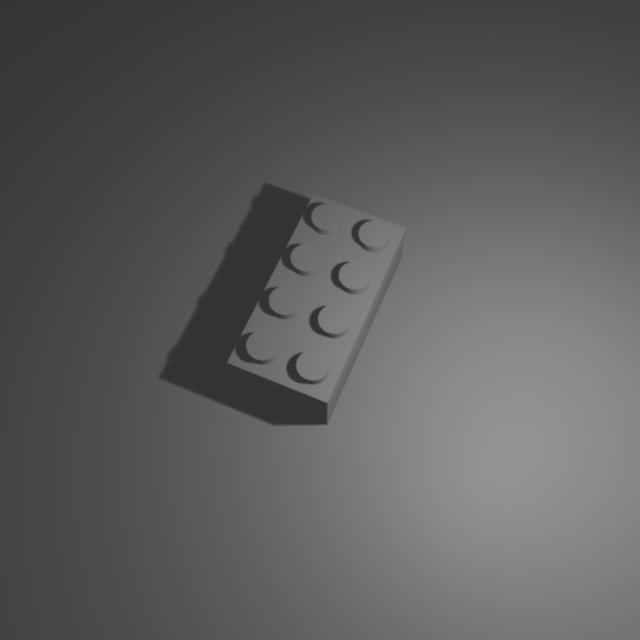lego_2x4: (226, 189, 407, 425)
